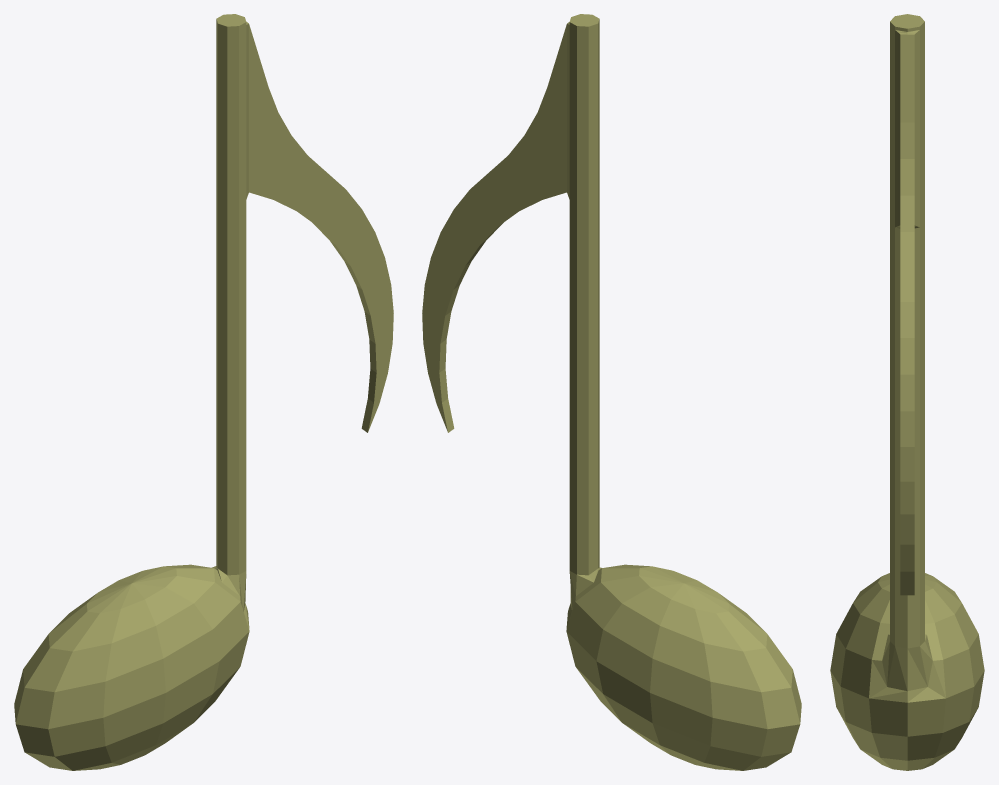
File: musicnote.obj
The picture shows the model from 3 angles, left to right: view 1: azimuth 30°, elevation 25°; view 2: azimuth 150°, elevation 25°; view 3: azimuth 270°, elevation 25°; orthographic projection. The views are drawn at different scales.
Visible parts, largest first — view 1: MusicNote; view 2: MusicNote; view 3: MusicNote.
Boxes of the visible parts, x1,y1,x2,y2 form: MusicNote: [14, 14, 393, 770]; MusicNote: [422, 14, 801, 770]; MusicNote: [830, 14, 984, 770].
Size of the model in its own units: 5.23 by 9.49 by 1.65.
